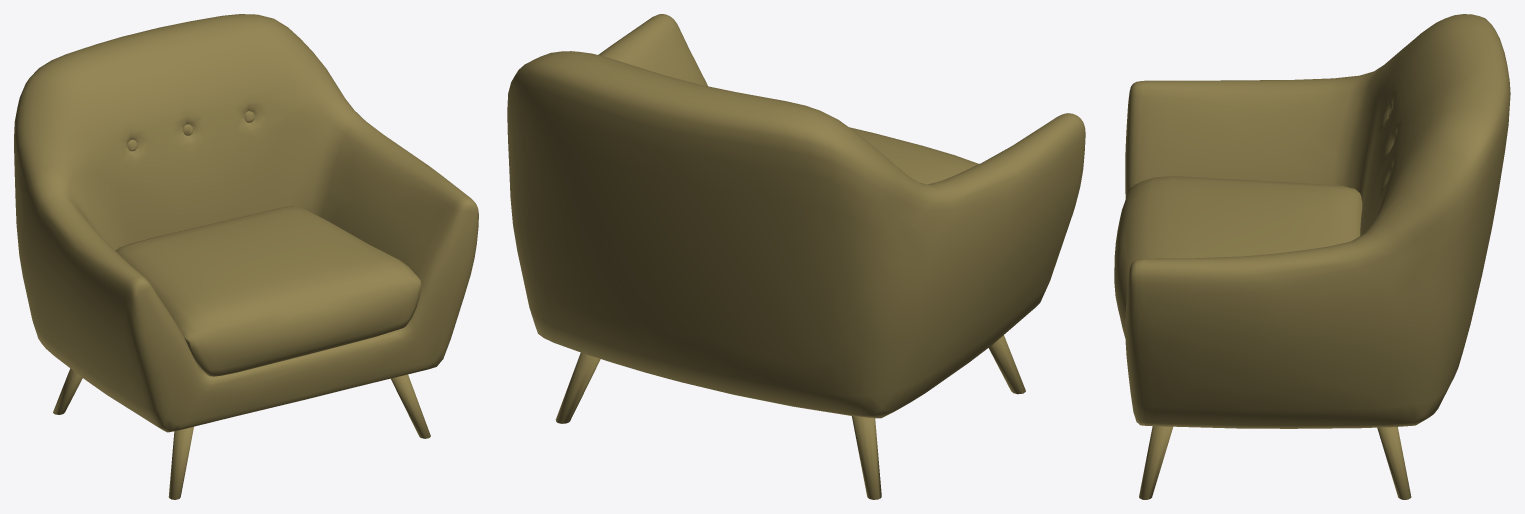
The model's file is chair1.gltf.
3 views of the same model, side by side, from view 1: azimuth 30°, elevation 25°; view 2: azimuth 150°, elevation 25°; view 3: azimuth 270°, elevation 25° (orthographic). The views are drawn at different scales.
Parts seen in each view (by area): view 1: Armchair_01_Chair; view 2: Armchair_01_Chair; view 3: Armchair_01_Chair.
Part boxes in pixels (x1,y1,x2,y2): Armchair_01_Chair: (14,14,478,499); Armchair_01_Chair: (507,14,1085,499); Armchair_01_Chair: (1114,14,1510,499).
Size of the model in its own units: 0.9952 by 0.8606 by 0.855.
